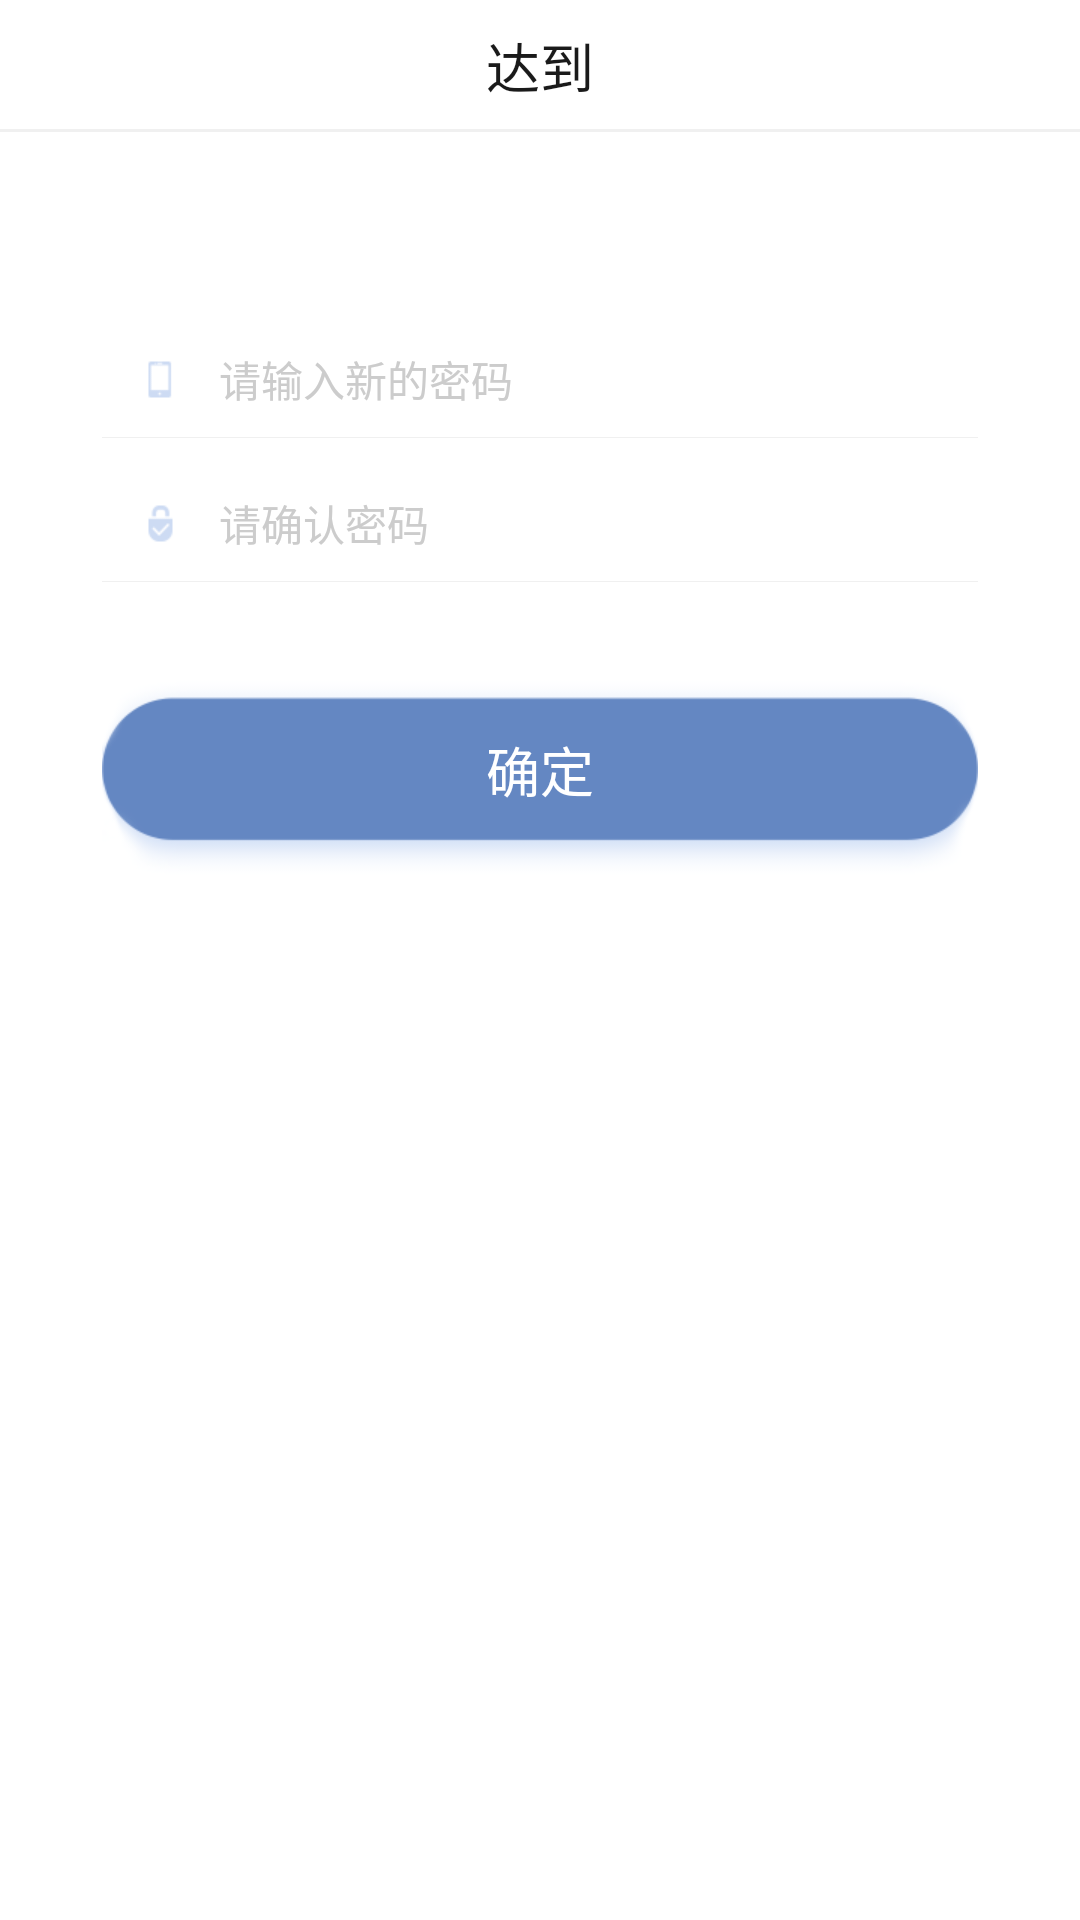

Icon bounding boxes for this 1080x1920 phone screenshot, format [x1=x1, y1=y1, x2=x2, y2=y2]:
querenmima: [x1=148, y1=505, x2=173, y2=542]
shouji: [x1=148, y1=361, x2=171, y2=398]
